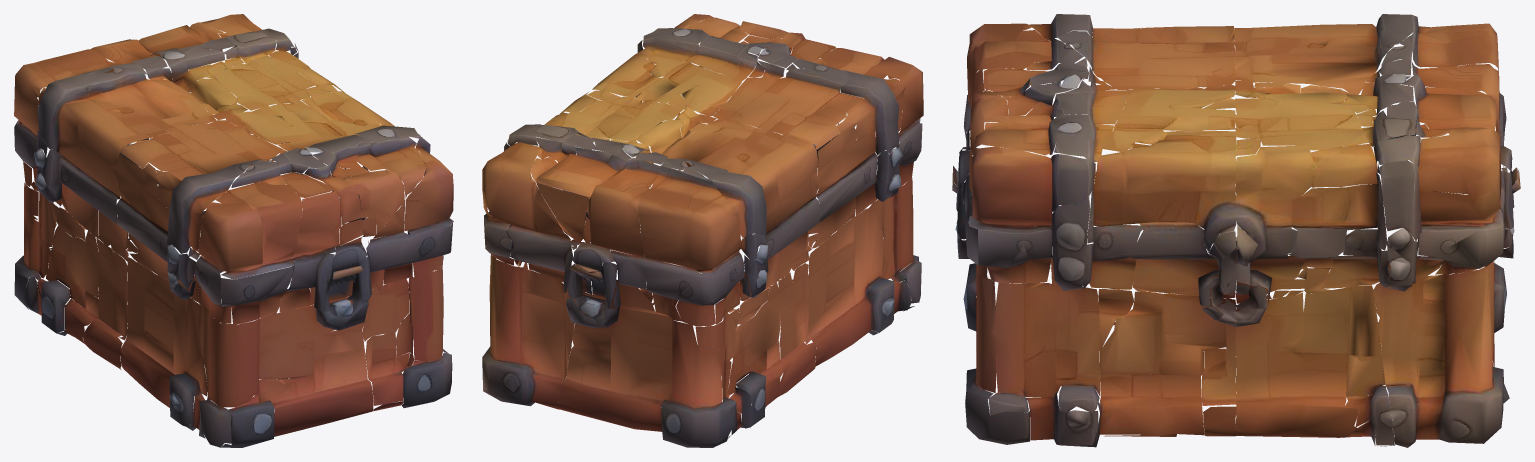
The model's file is bau.glb.
3 views of the same model, side by side, from view 1: azimuth 30°, elevation 25°; view 2: azimuth 150°, elevation 25°; view 3: azimuth 270°, elevation 25° (orthographic). The views are drawn at different scales.
Visible parts, largest first — view 1: tripo_node_4adffa85-c1f0-464c-bdce-3f83603f4422; view 2: tripo_node_4adffa85-c1f0-464c-bdce-3f83603f4422; view 3: tripo_node_4adffa85-c1f0-464c-bdce-3f83603f4422.
Part boxes in pixels (x1=…): tripo_node_4adffa85-c1f0-464c-bdce-3f83603f4422: x1=14, y1=14, x2=453, y2=447; tripo_node_4adffa85-c1f0-464c-bdce-3f83603f4422: x1=482, y1=14, x2=923, y2=447; tripo_node_4adffa85-c1f0-464c-bdce-3f83603f4422: x1=952, y1=14, x2=1520, y2=447.
Bounding box in the file's own units: 0.697 × 0.5987 × 0.9982.
1 material, 1 textured.
